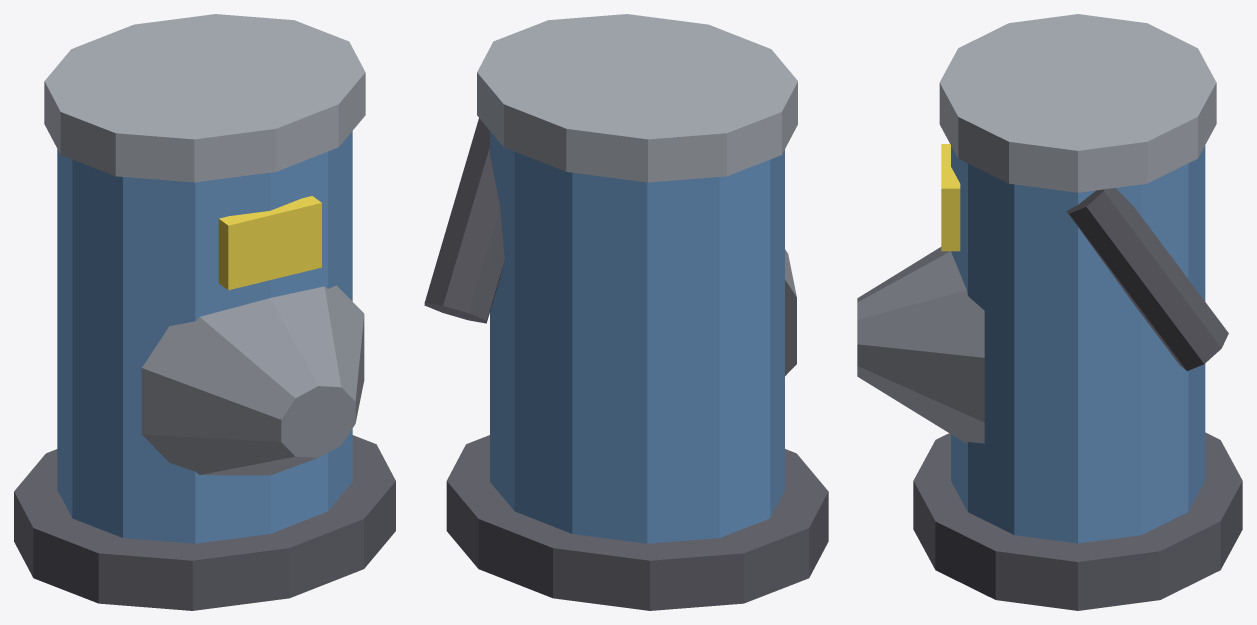
Rendered from vacuum_station.glb.
3 renders of one model, left to right at view 1: azimuth 30°, elevation 25°; view 2: azimuth 150°, elevation 25°; view 3: azimuth 270°, elevation 25°, orthographic. The views are drawn at different scales.
Parts seen in each view (by area): view 1: vacuum_station; view 2: vacuum_station; view 3: vacuum_station.
Boxes of the visible parts, x1,y1,x2,y2 form: vacuum_station: [14, 14, 395, 610]; vacuum_station: [424, 14, 828, 610]; vacuum_station: [857, 14, 1242, 610].
Size of the model in its own units: 1 by 1.28 by 1.
